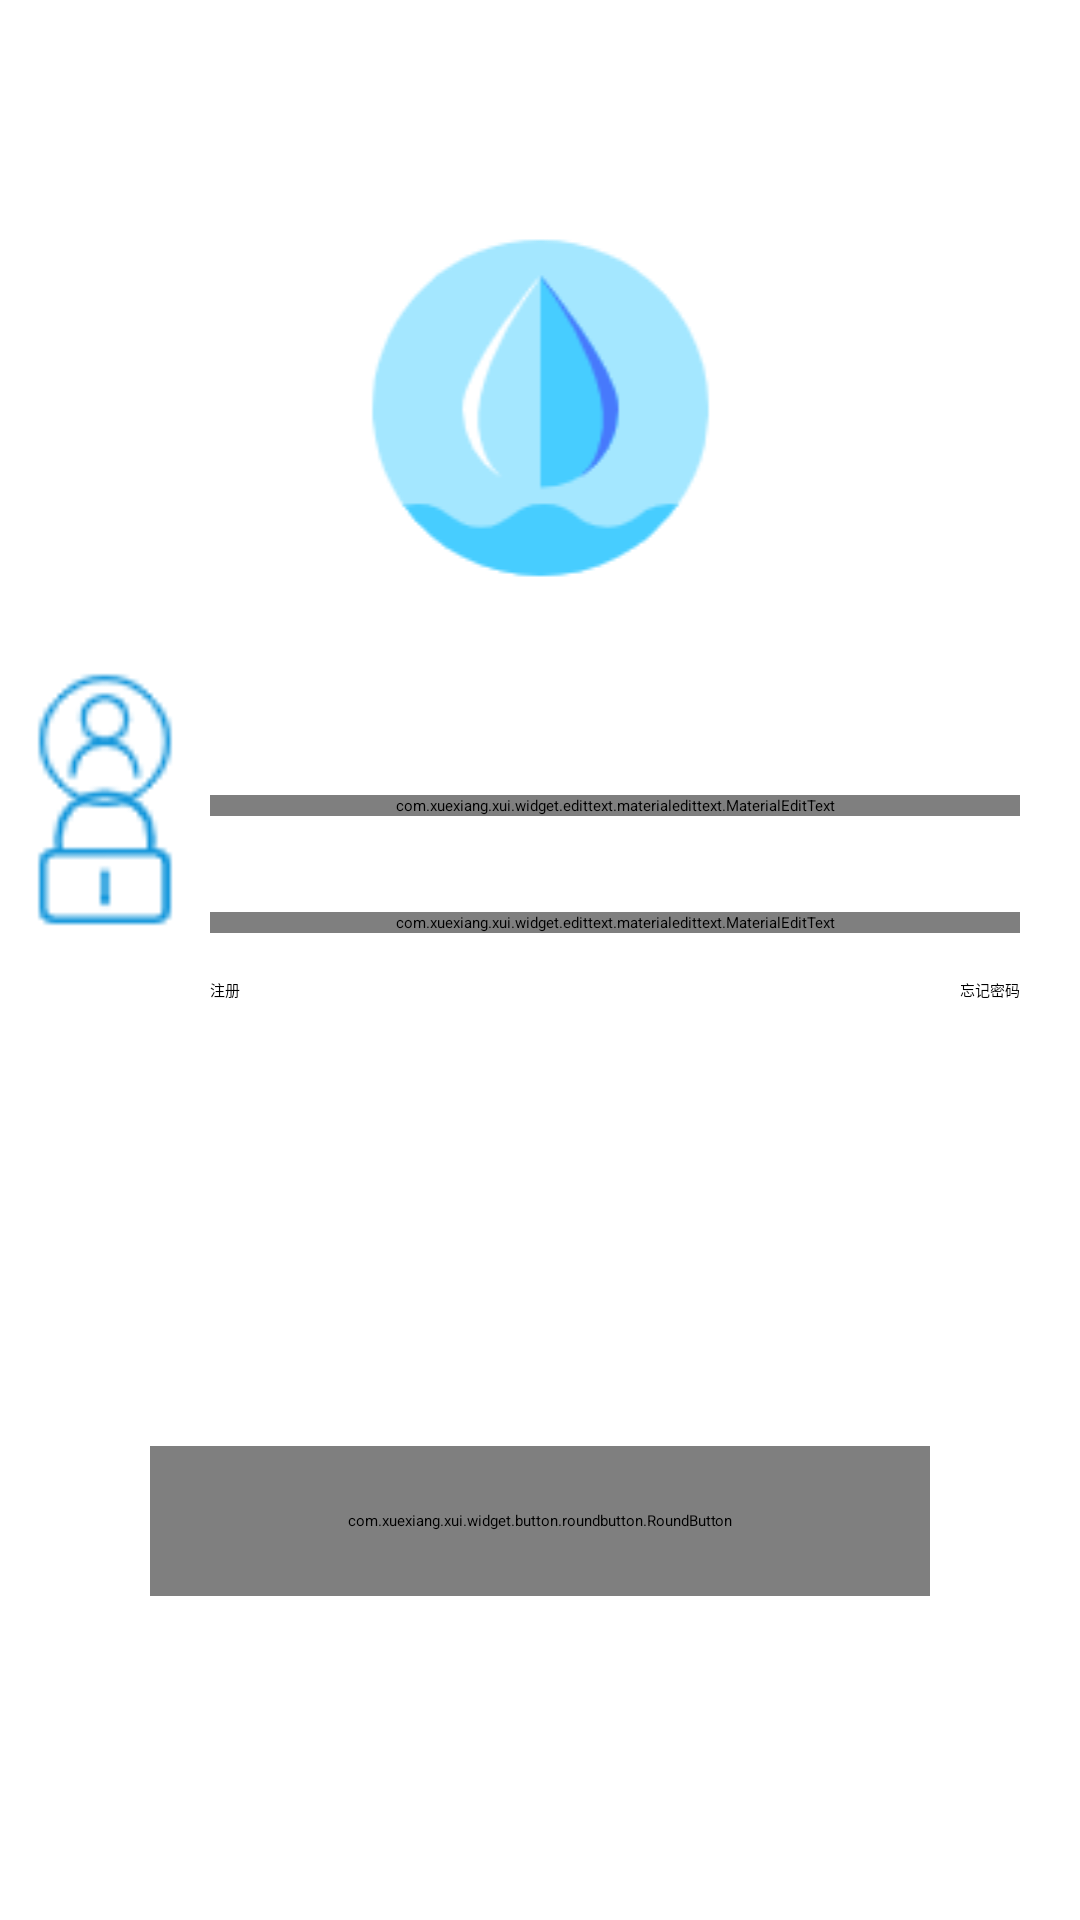

Where icons sit on this 1080px×1920px app screen, as bbox=(x1, y1, x2, y2):
drop: bbox=(372, 239, 709, 577)
lock: bbox=(38, 783, 173, 925)
person: bbox=(38, 674, 172, 816)
